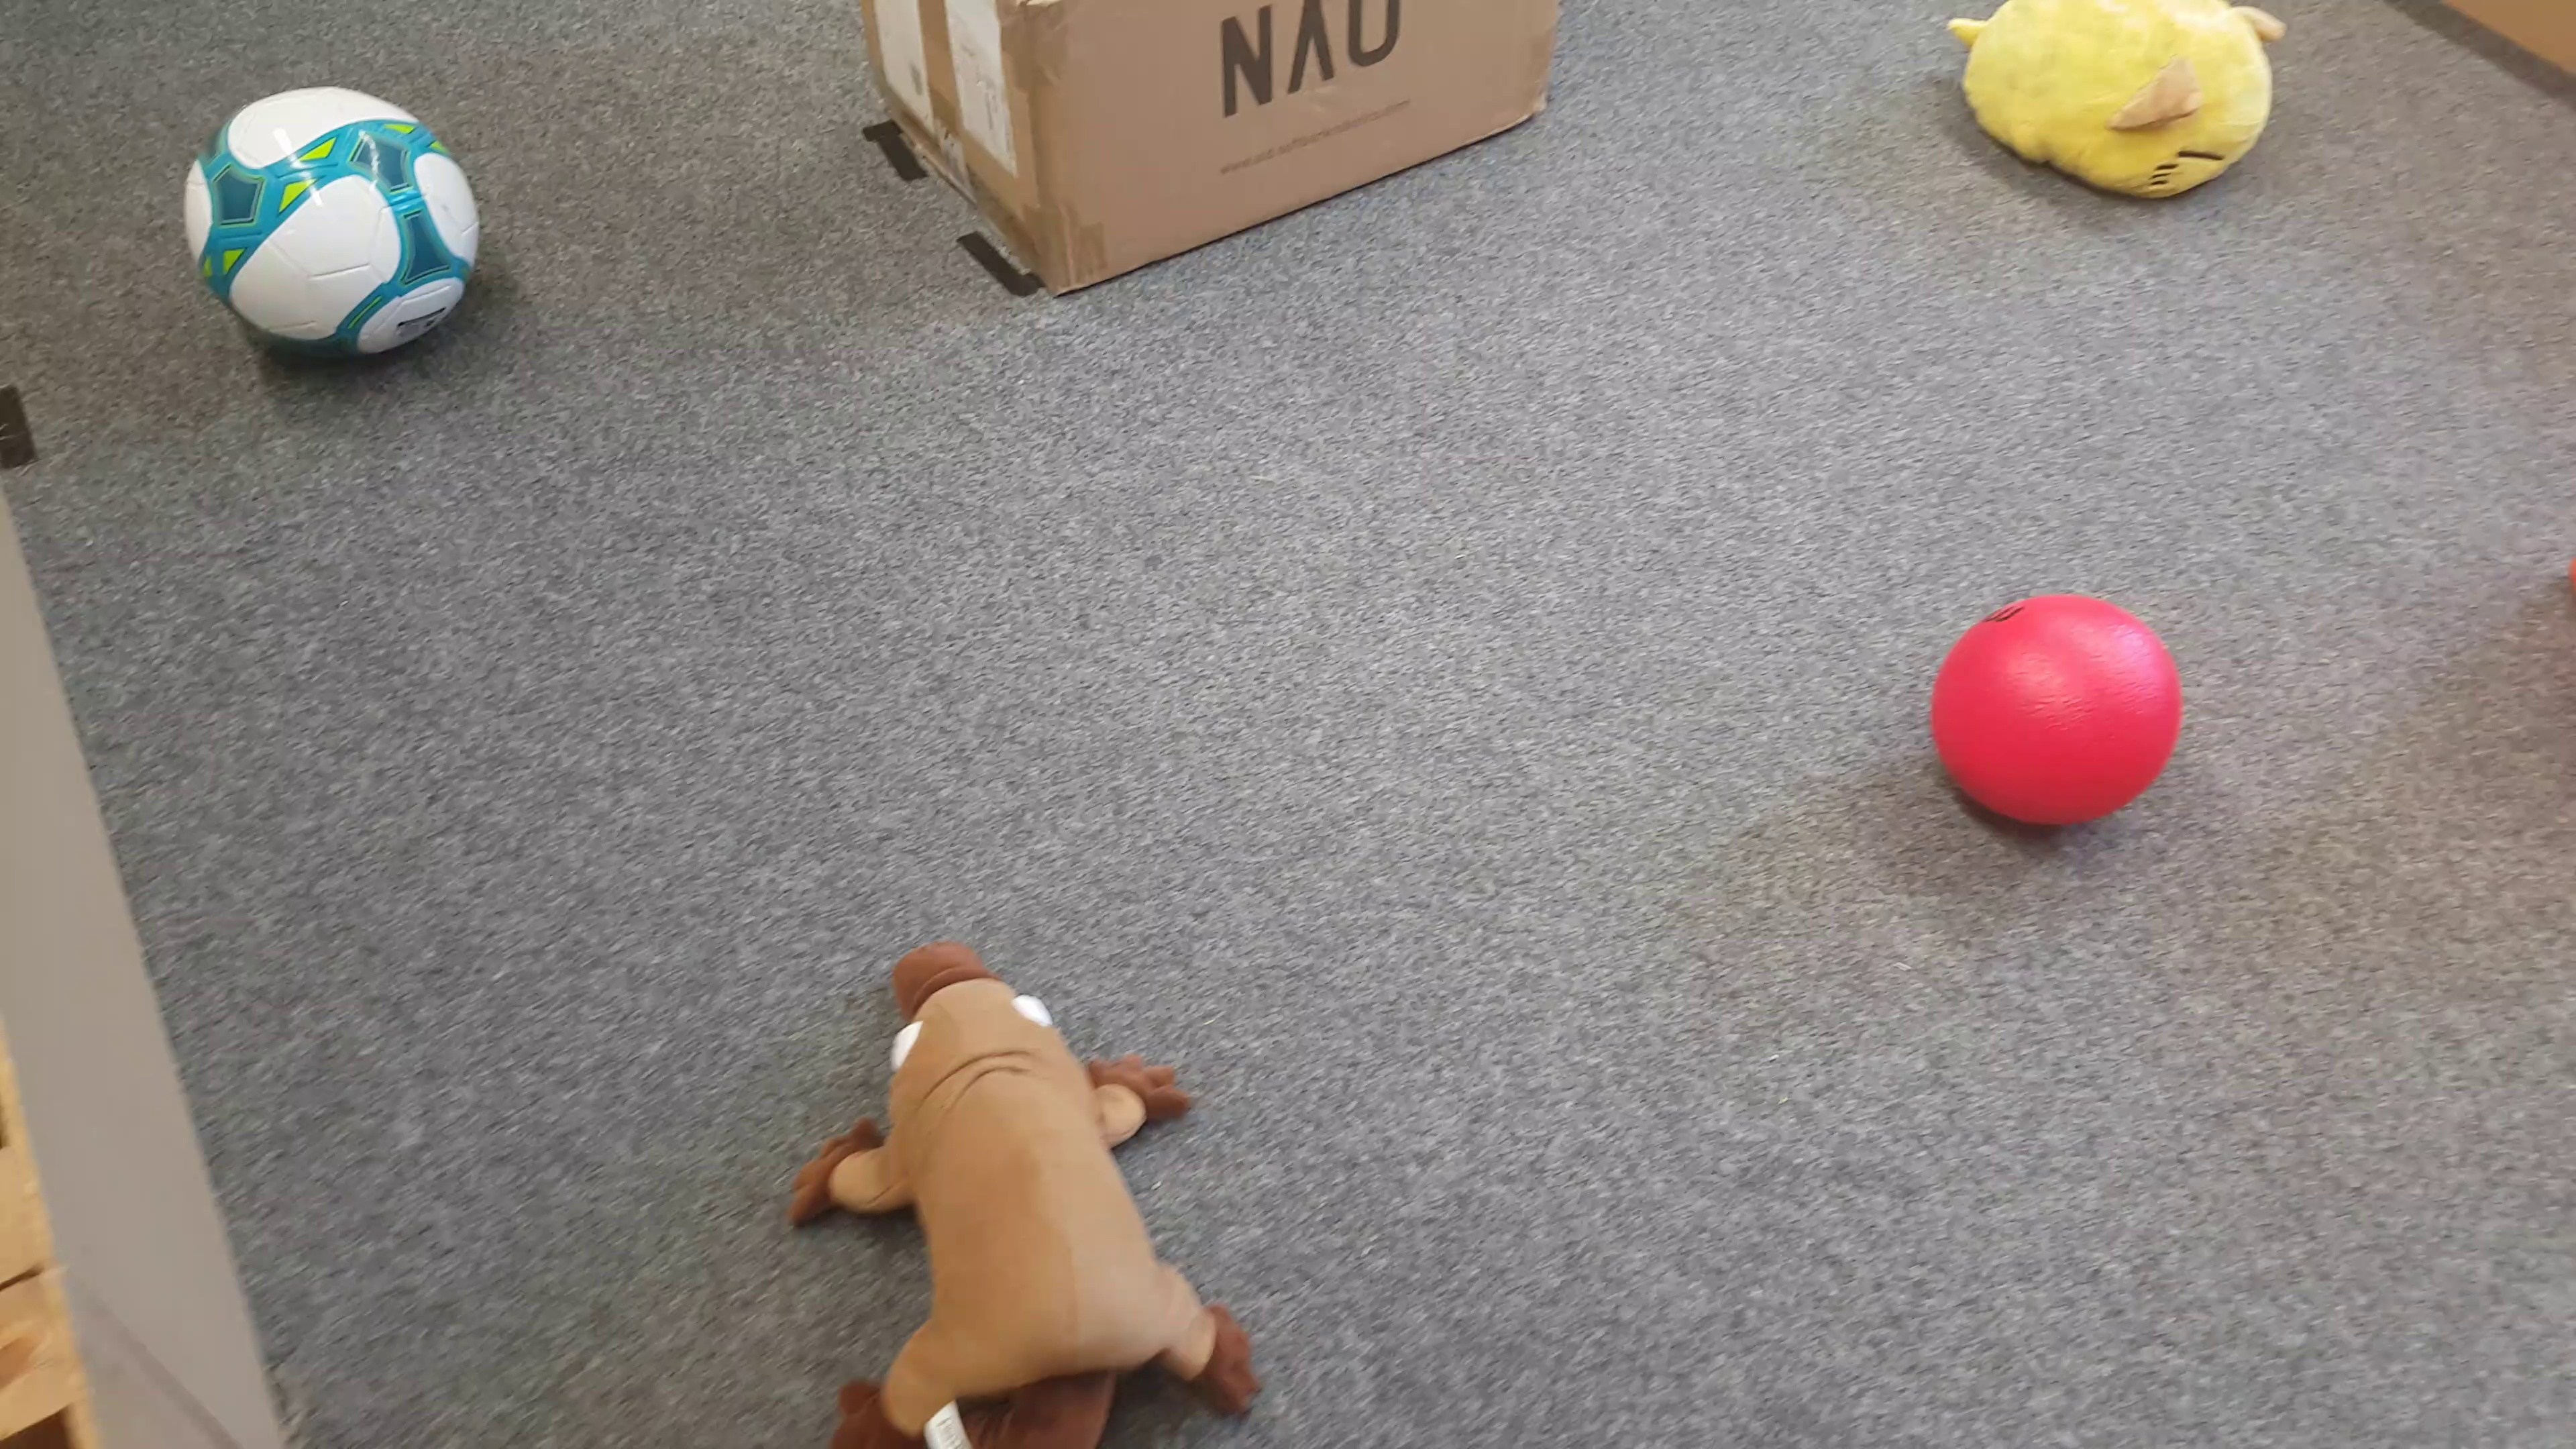grasp: (784, 943, 1260, 1449), (1946, 2, 2277, 207)
kick: (186, 85, 474, 361), (1925, 584, 2181, 840)
